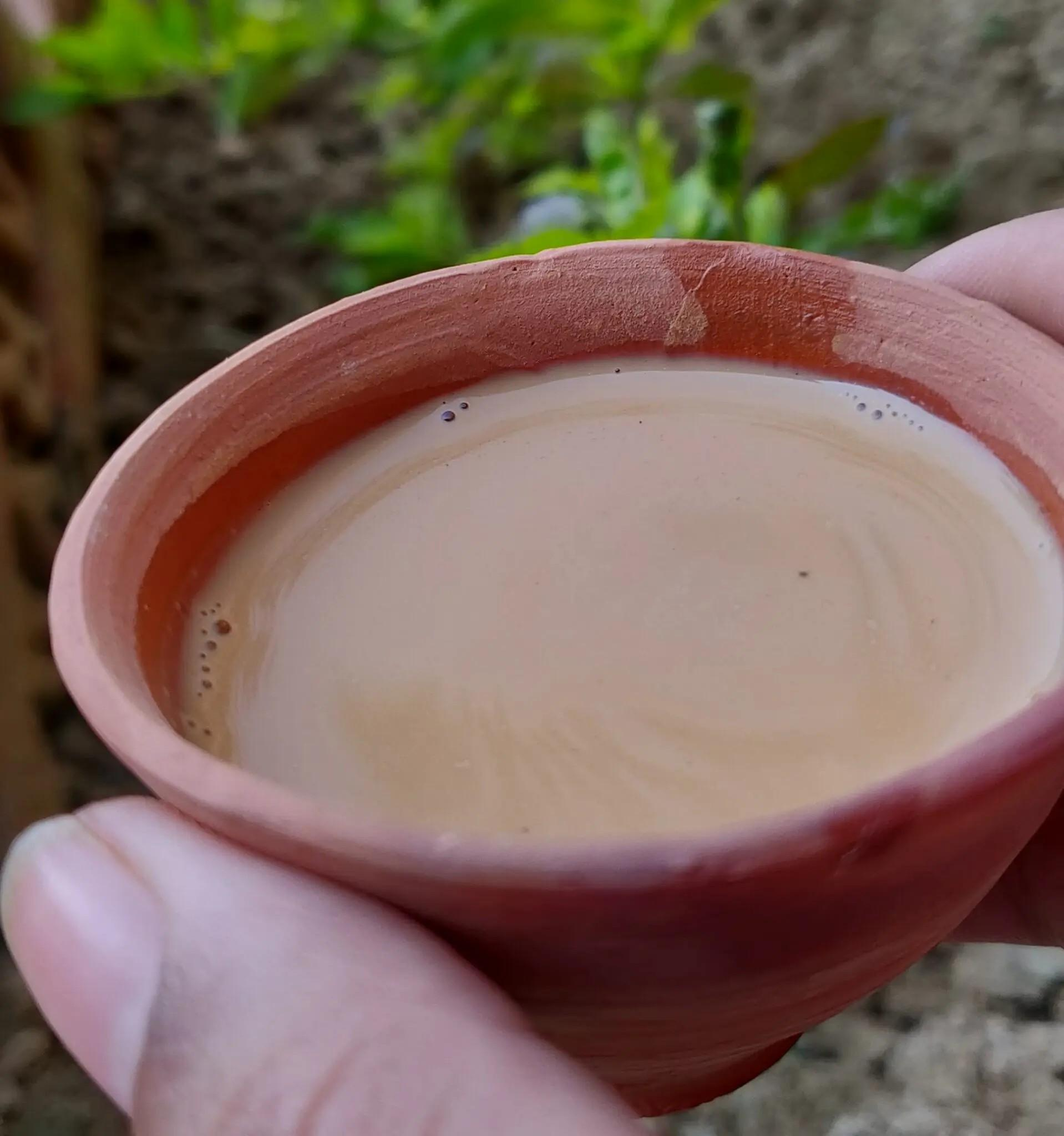Chai: (181, 363, 1064, 848)
